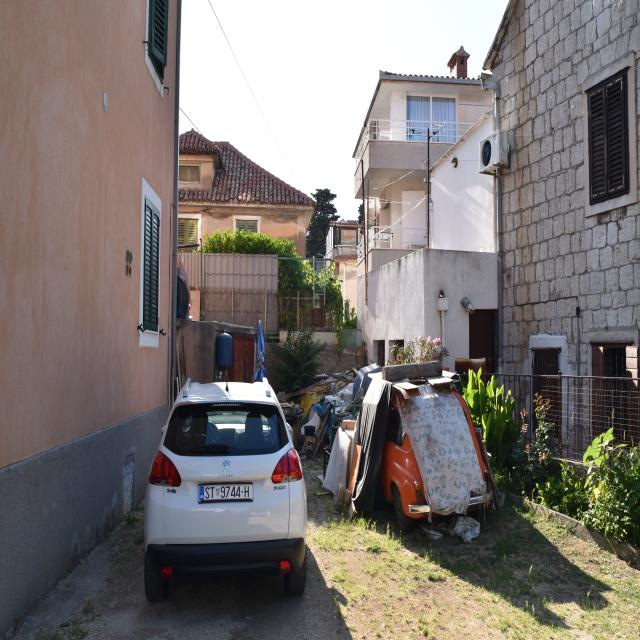entulho: (321, 416, 354, 511), (324, 362, 362, 412), (382, 358, 438, 382), (284, 376, 329, 402), (450, 515, 480, 543), (303, 404, 323, 436)
